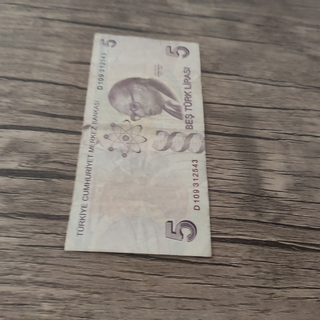5TLBack: (63, 30, 212, 258)
